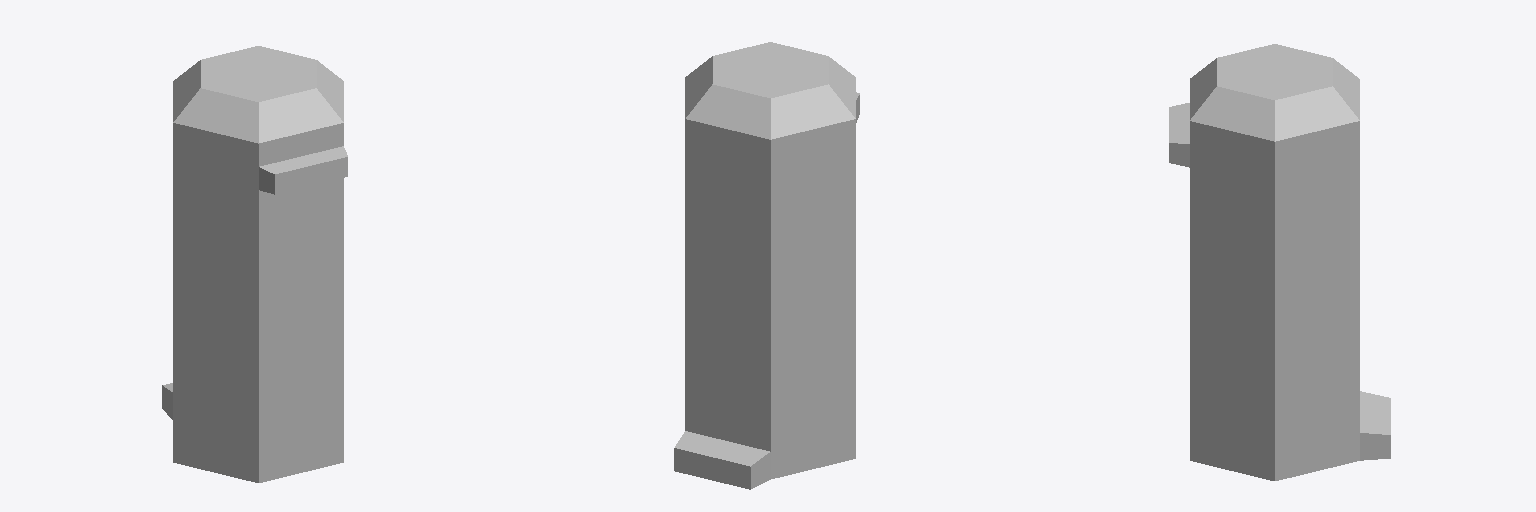
Rendered from trashcan.obj.
The picture shows the model from 3 angles: view 1: azimuth 30°, elevation 25°; view 2: azimuth 150°, elevation 25°; view 3: azimuth 270°, elevation 25°; orthographic projection.
Visible parts, largest first — view 1: trashcan; view 2: trashcan; view 3: trashcan.
Part boxes in pixels (left/top/right/bottom): trashcan: left=162, top=46, right=347, bottom=482; trashcan: left=674, top=42, right=859, bottom=489; trashcan: left=1169, top=44, right=1390, bottom=480.
Size of the model in its own units: 0.2077 by 0.4279 by 0.2341.